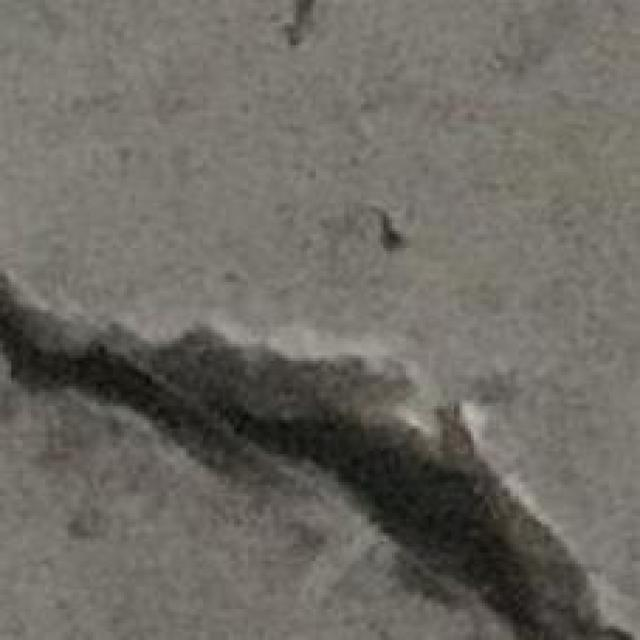Crack: (0, 271, 632, 637)
